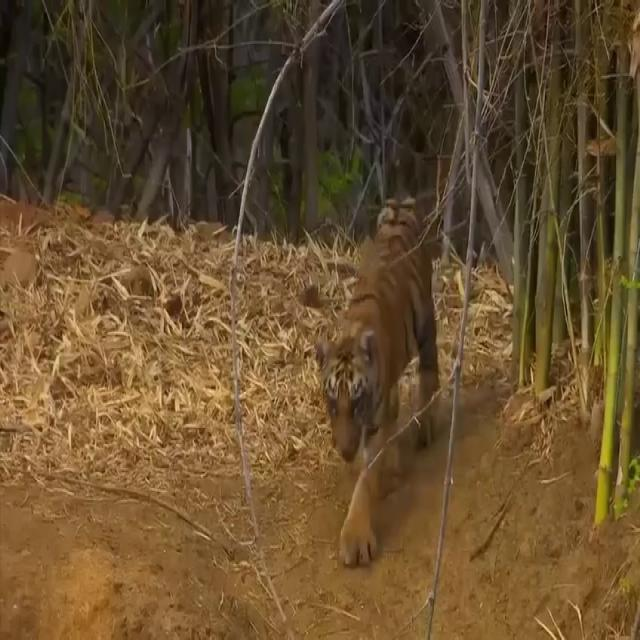tiger: (312, 194, 443, 564)
